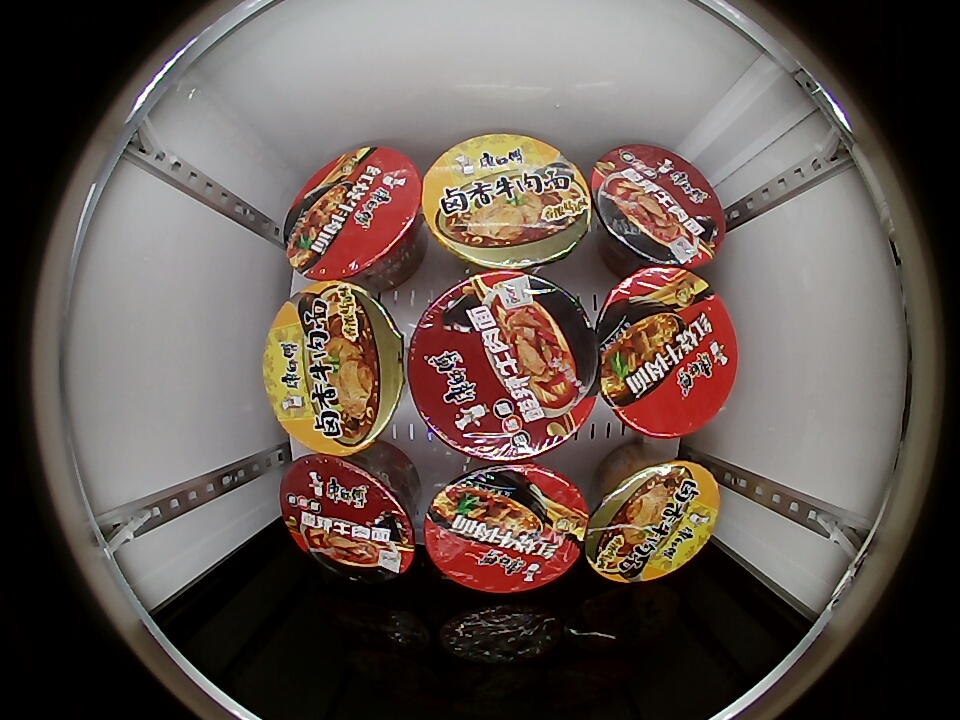hongshaoniurou: (595, 268, 737, 438), (423, 464, 589, 594), (284, 146, 424, 283)
luxiangniurou: (263, 281, 407, 456), (421, 134, 593, 269), (586, 459, 721, 582)
suanlaniurou: (408, 270, 600, 461), (280, 455, 419, 582), (590, 144, 725, 268)
